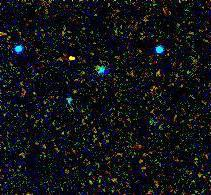star: (55, 44, 85, 74)
